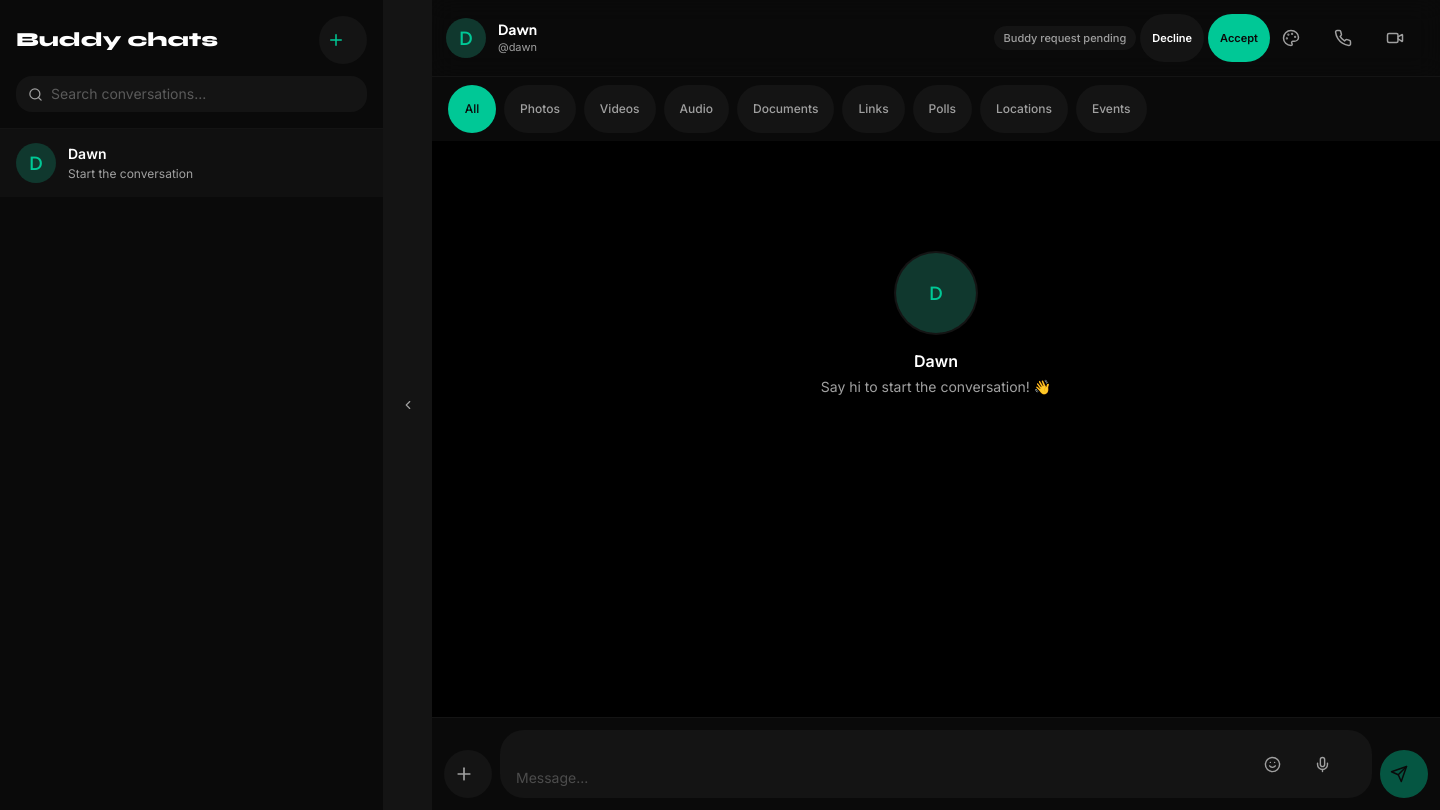
Scenario: Messages — answering an incoming buddy request › closes the confirmation without responding when cancelled
The width and height of the screenshot is (1440, 810).
Step 1. Click the button "Accept" → (1239, 38), box x1=1208 y1=14 x2=1270 y2=62
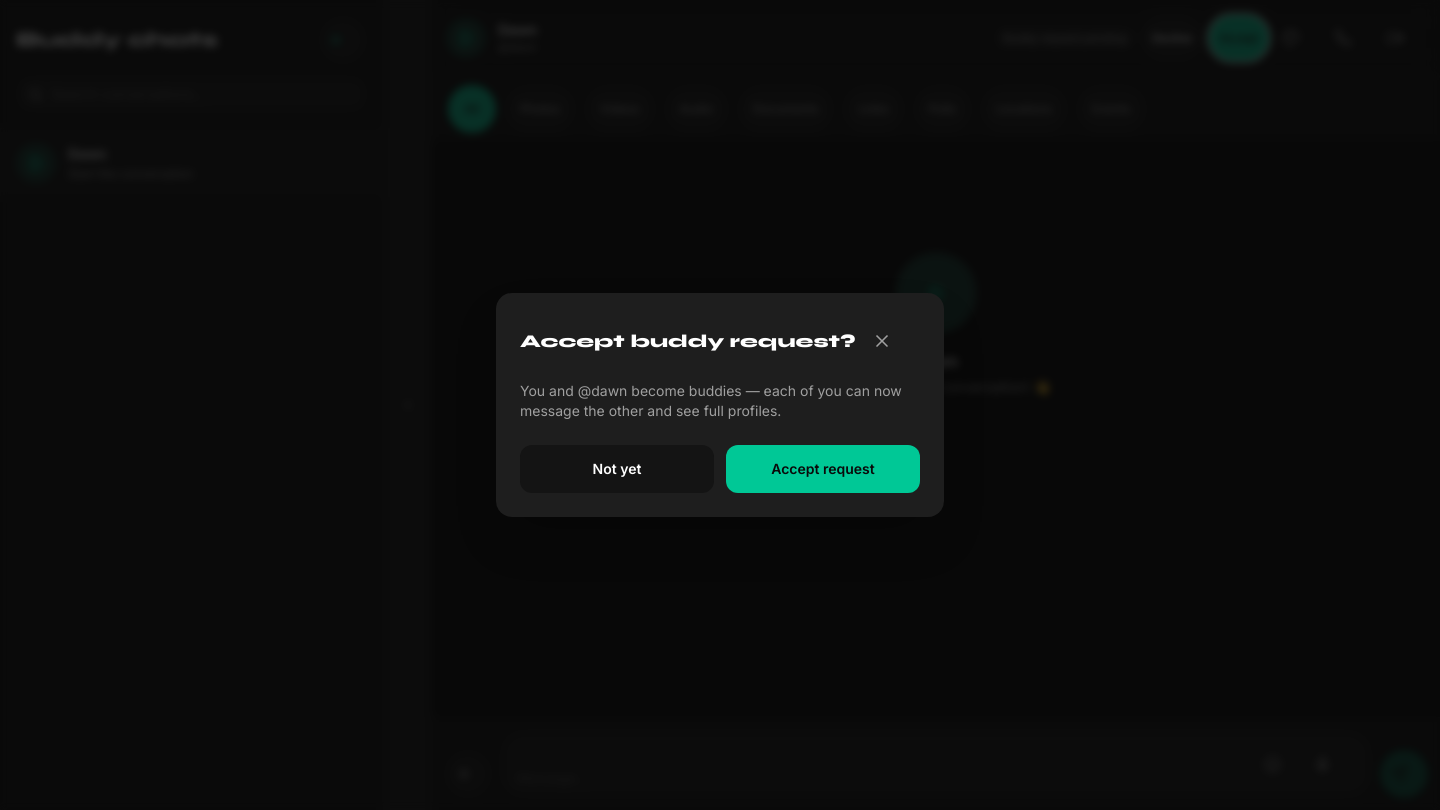
Step 2. Click the button "Not yet" → (617, 469), box x1=520 y1=445 x2=714 y2=493
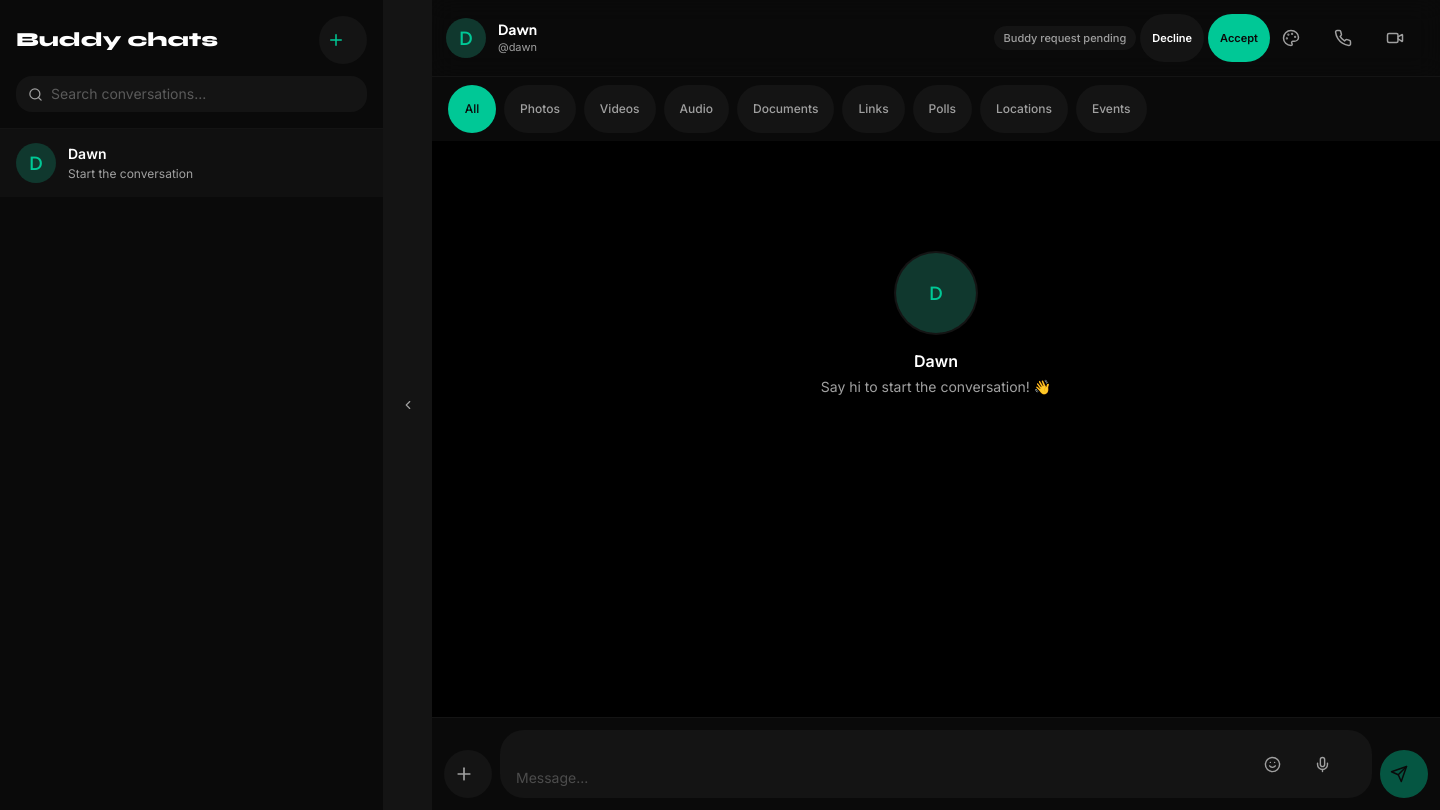
Expected: the button "Accept" is shown, x1=1208 y1=14 x2=1270 y2=62
Now the heading "Accept buddy request?" is gone
